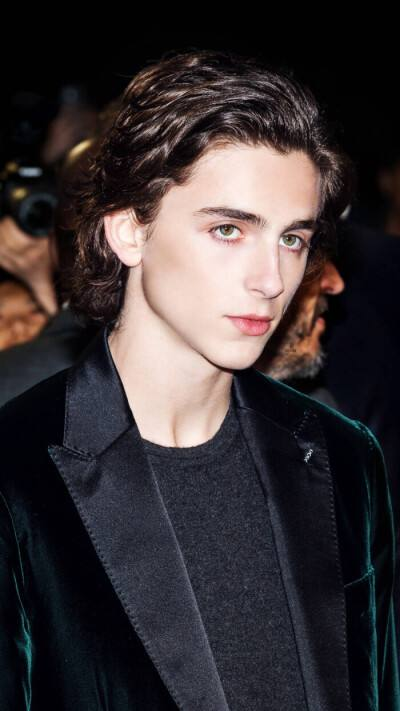person: (83, 18, 365, 711)
